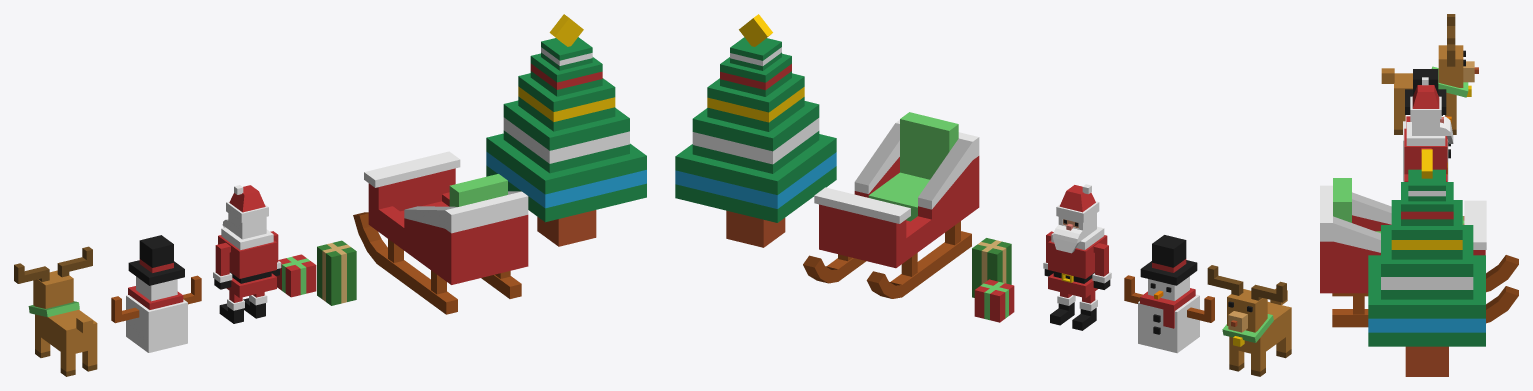
Rendered from ChristmasAssets.obj.
The picture shows the model from 3 angles, left to right: view 1: azimuth 30°, elevation 25°; view 2: azimuth 150°, elevation 25°; view 3: azimuth 270°, elevation 25°; orthographic projection.
Visible parts, largest first — view 1: Tree, Sled, SantaClous, Snowman, Deer, GiftBox, GiftBox2; view 2: Tree, Sled, SantaClous, Snowman, Deer, GiftBox, GiftBox2; view 3: Tree, Sled, Deer, SantaClous, Snowman.
Boxes of the visible parts, bbox=[...] form: Tree: bbox=[486, 14, 646, 246]; Sled: bbox=[353, 151, 528, 314]; SantaClous: bbox=[213, 185, 281, 323]; Snowman: bbox=[111, 235, 201, 352]; Deer: bbox=[14, 246, 97, 376]; GiftBox: bbox=[317, 240, 356, 305]; GiftBox2: bbox=[276, 254, 316, 297]; Tree: bbox=[675, 14, 836, 247]; Sled: bbox=[803, 112, 979, 298]; SantaClous: bbox=[1043, 184, 1111, 330]; Snowman: bbox=[1124, 235, 1214, 353]; Deer: bbox=[1207, 265, 1291, 376]; GiftBox: bbox=[972, 238, 1011, 297]; GiftBox2: bbox=[974, 279, 1014, 322]; Tree: bbox=[1368, 149, 1485, 376]; Sled: bbox=[1320, 178, 1518, 327]; Deer: bbox=[1381, 14, 1478, 134]; SantaClous: bbox=[1404, 77, 1453, 181]; Snowman: bbox=[1403, 69, 1451, 181].
Bounding box in the file's own units: 176 × 63.71 × 51.27.
